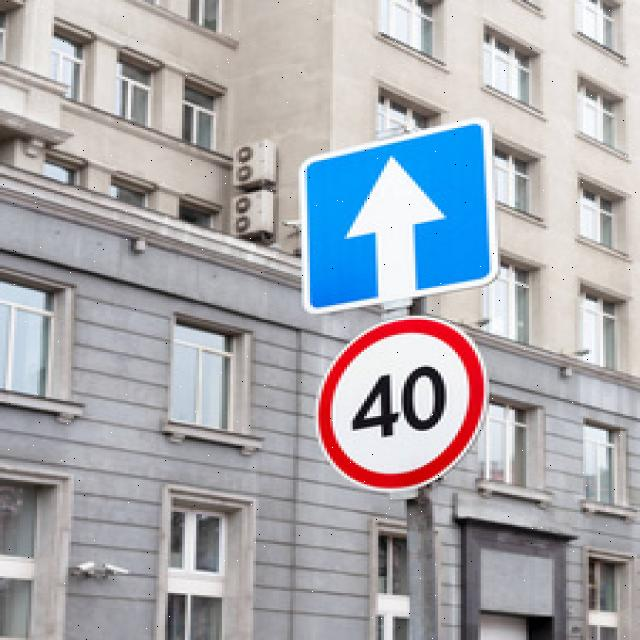speed limit 40: (313, 316, 487, 491)
